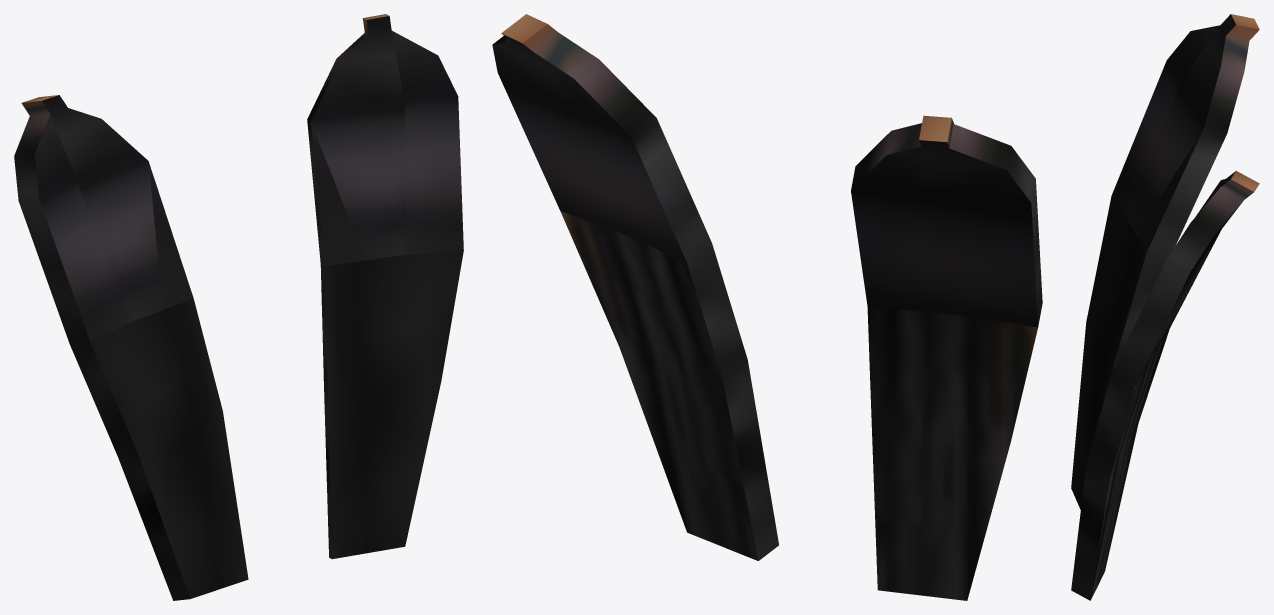
Rendered from xion_isw_e_armor_back.dae.
The picture shows the model from 3 angles, left to right: view 1: azimuth 30°, elevation 25°; view 2: azimuth 150°, elevation 25°; view 3: azimuth 270°, elevation 25°; orthographic projection. The views are drawn at different scales.
Parts seen in each view (by area): view 1: m_armor_dress_short_med_sleeves.001; view 2: m_armor_dress_short_med_sleeves.001; view 3: m_armor_dress_short_med_sleeves.001.
Part boxes in pixels (bbox=[...]): m_armor_dress_short_med_sleeves.001: bbox=[14, 14, 463, 600]; m_armor_dress_short_med_sleeves.001: bbox=[492, 14, 1042, 600]; m_armor_dress_short_med_sleeves.001: bbox=[1071, 14, 1259, 600].
Size of the model in its own units: 1.1 by 0.4232 by 1.12.
